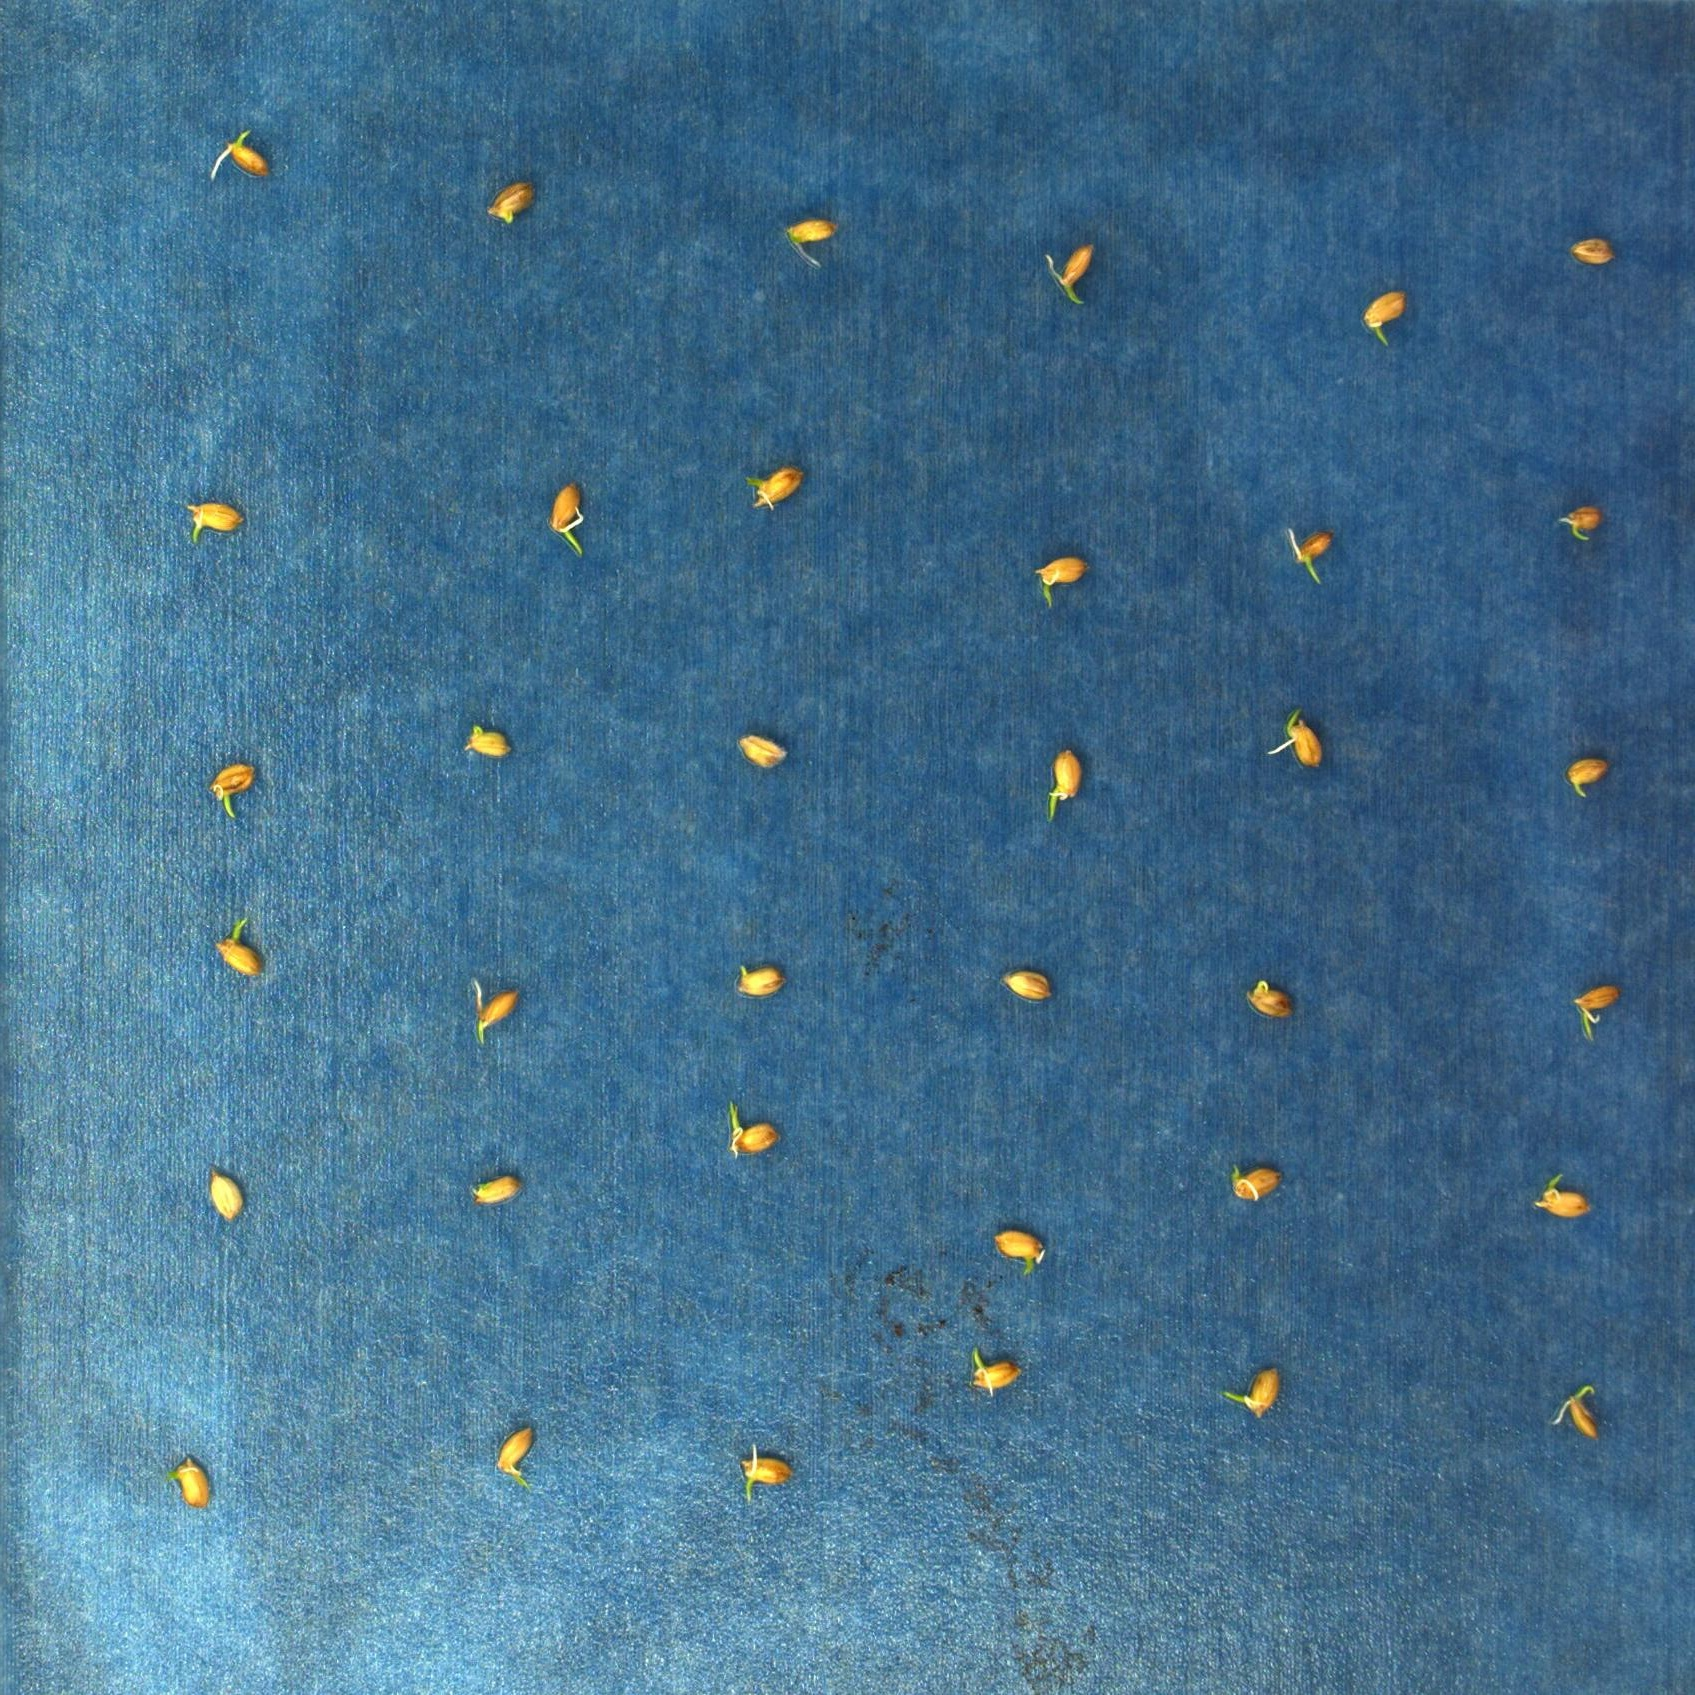not sprout: (206, 126, 272, 183), (467, 981, 520, 1048), (1549, 1380, 1600, 1445), (740, 466, 804, 514), (1537, 1169, 1594, 1222), (179, 501, 247, 543), (480, 179, 539, 227), (166, 1453, 213, 1510), (990, 1228, 1043, 1276), (733, 730, 789, 771), (466, 1169, 525, 1208), (203, 1167, 244, 1223), (1225, 1163, 1281, 1201), (1243, 979, 1295, 1021), (997, 964, 1049, 1004), (461, 722, 508, 761), (1568, 231, 1616, 269), (736, 959, 782, 997)
sprout: (1267, 706, 1326, 771), (206, 919, 265, 983), (737, 1444, 795, 1506), (723, 1099, 782, 1158), (1048, 241, 1101, 306), (1042, 750, 1087, 823), (1571, 976, 1619, 1042), (546, 483, 588, 557), (1225, 1364, 1281, 1420), (492, 1423, 536, 1495), (1287, 523, 1335, 587), (1358, 286, 1406, 348), (967, 1350, 1026, 1400), (784, 217, 837, 269), (211, 761, 255, 821), (1562, 751, 1614, 801), (1032, 559, 1087, 605), (1555, 508, 1605, 546)
